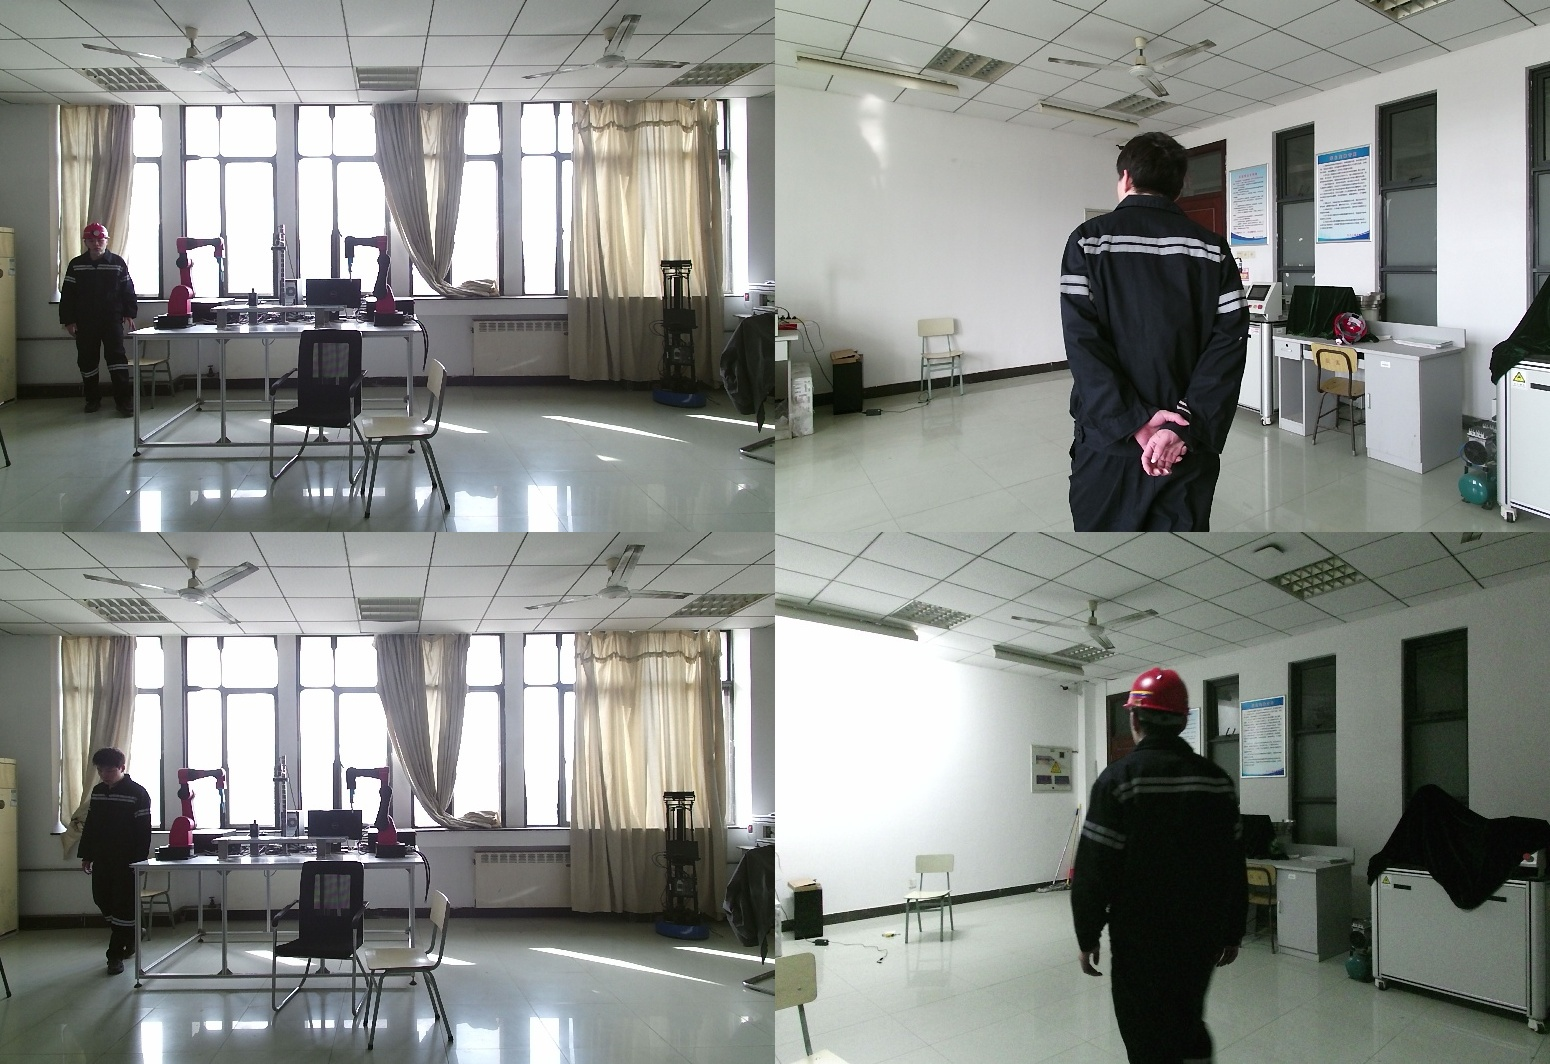person: (1063, 132, 1269, 532), (1071, 669, 1265, 1064), (77, 748, 151, 975), (57, 224, 137, 416)
